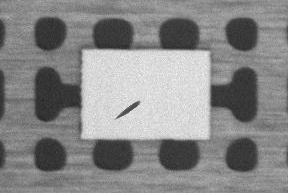DIE_INK: (114, 100, 141, 121)
